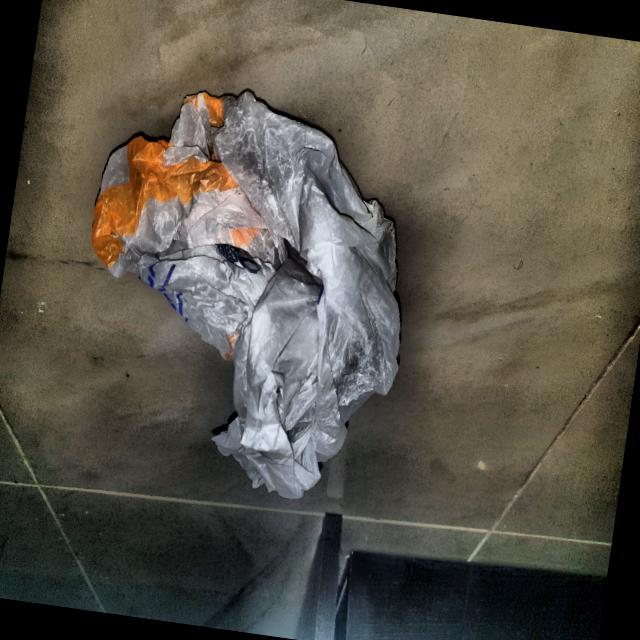plastic bag: (49, 49, 446, 524)
